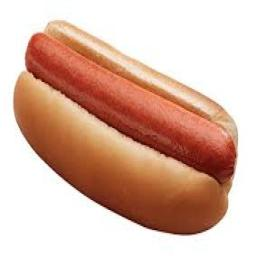hotdog: (8, 15, 242, 237)
